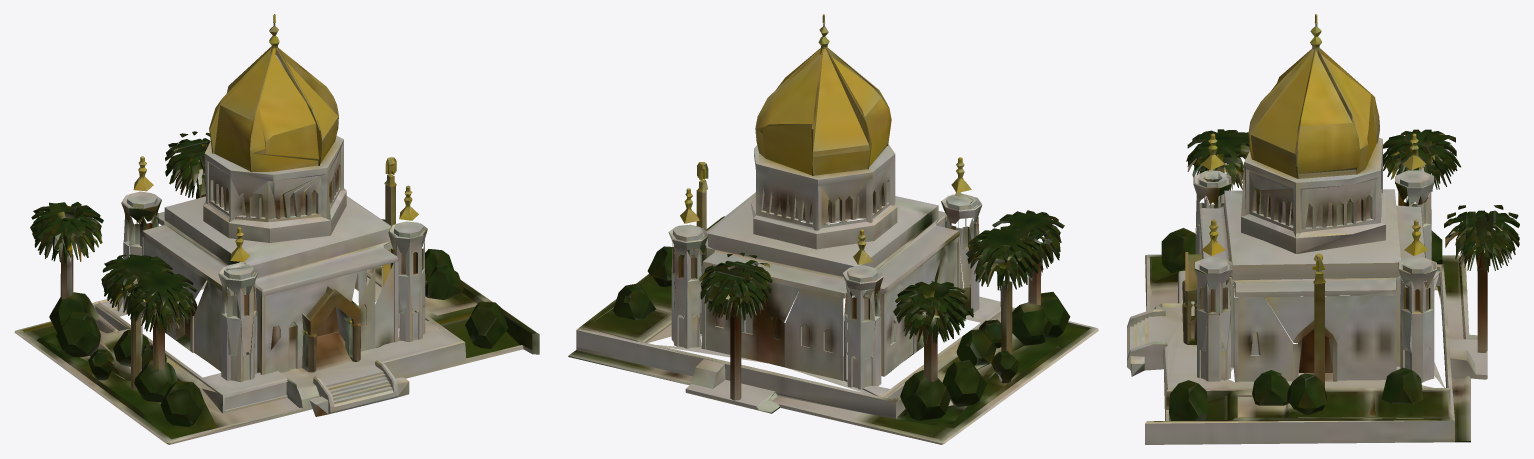
Rendered from masjid_1_lod2.glb.
3 views of the same model, side by side, from view 1: azimuth 30°, elevation 25°; view 2: azimuth 150°, elevation 25°; view 3: azimuth 270°, elevation 25° (orthographic). The views are drawn at different scales.
Parts seen in each view (by area): view 1: tripo_node_acfb8538; view 2: tripo_node_acfb8538; view 3: tripo_node_acfb8538.
Boxes of the visible parts, bbox=[...] form: tripo_node_acfb8538: bbox=[14, 14, 539, 444]; tripo_node_acfb8538: bbox=[568, 14, 1098, 444]; tripo_node_acfb8538: bbox=[1127, 14, 1519, 444].
Bounding box in the file's own units: 1 × 0.8387 × 0.879.
1 material, 1 textured.
